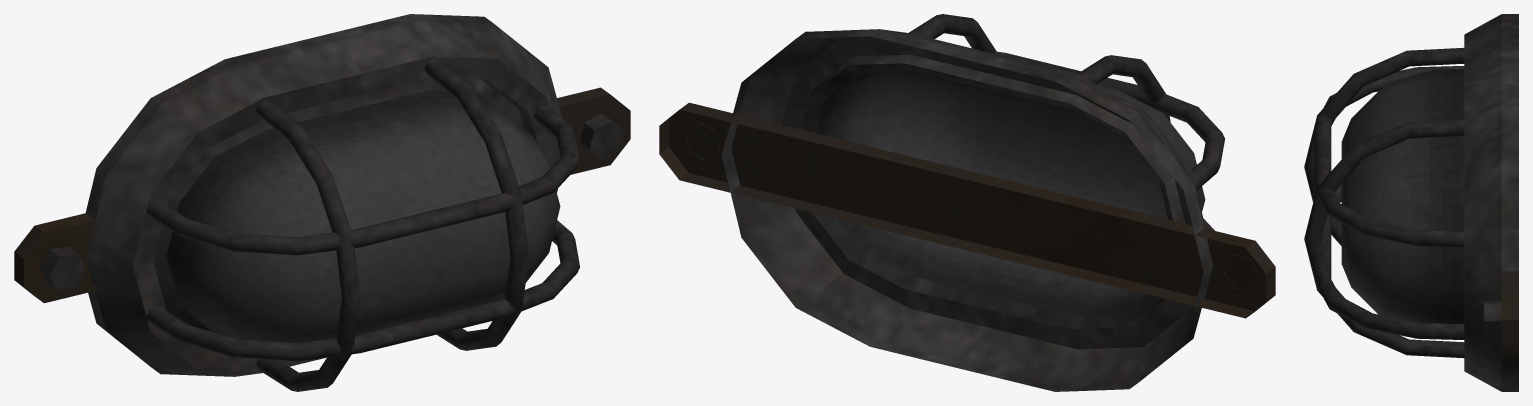
Rendered from lamp_2_off.obj.
3 views of the same model, side by side, from view 1: azimuth 30°, elevation 25°; view 2: azimuth 150°, elevation 25°; view 3: azimuth 270°, elevation 25° (orthographic). The views are drawn at different scales.
Parts seen in each view (by area): view 1: lamp_2_off; view 2: lamp_2_off; view 3: lamp_2_off.
Boxes of the visible parts, left/top/right/bottom form: lamp_2_off: left=14, top=14, right=630, bottom=391; lamp_2_off: left=659, top=14, right=1275, bottom=391; lamp_2_off: left=1304, top=14, right=1518, bottom=391.
Bounding box in the file's own units: 0.36 × 0.176 × 0.126.
